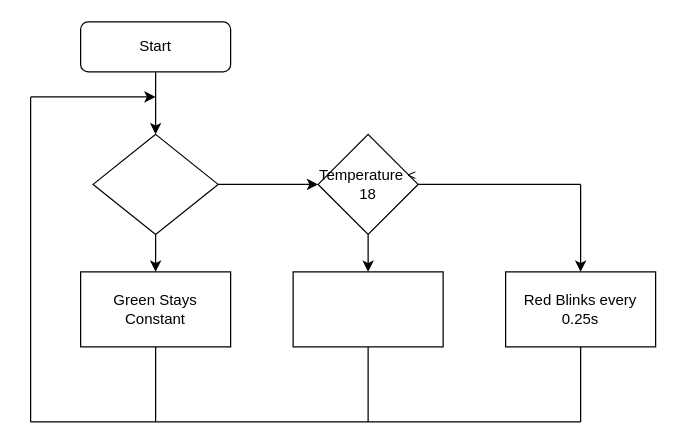
Image size: 678x445. Some labels were removed from this diagram. Each missing label, with the box of its shape:
18 < Temperature < 24: (92, 133, 218, 234)
Yellow Blinks every 0.5s: (292, 271, 443, 347)
